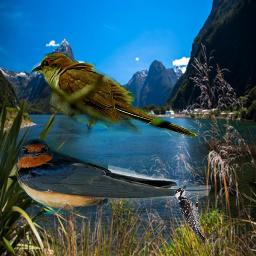Cuckoo: (30, 51, 199, 139)
Swallow: (11, 134, 211, 214)
Woodpecker: (174, 184, 205, 244)
